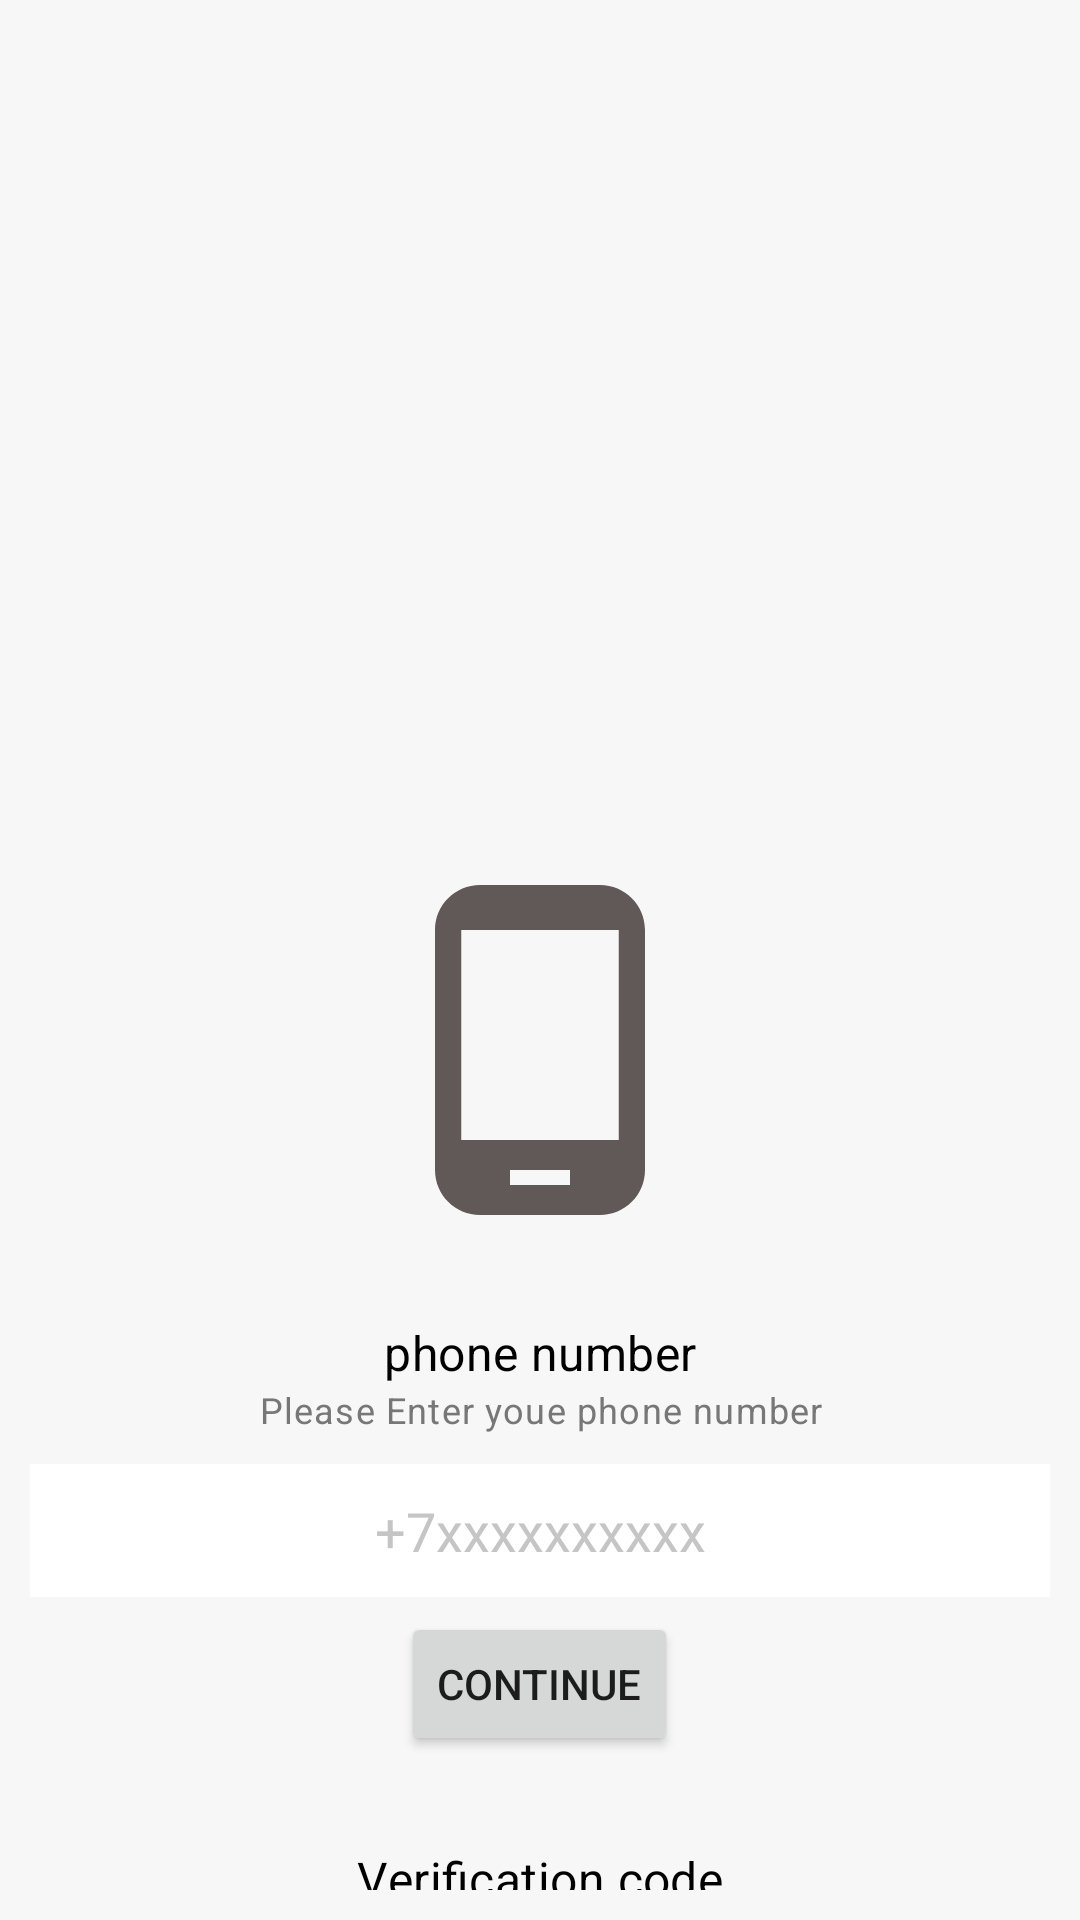

Icon bounding boxes for this 1080*1920 phone screenshot, format box(x1, y1, x2, y2):
phone android: box(435, 885, 645, 1215)
